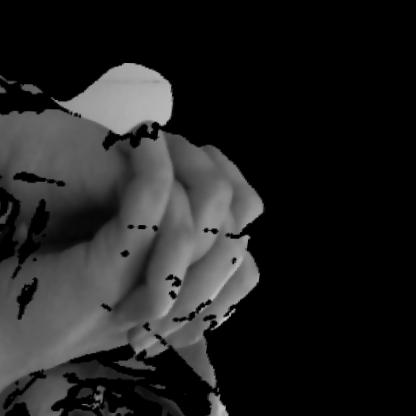prayer: (0, 103, 306, 399)
